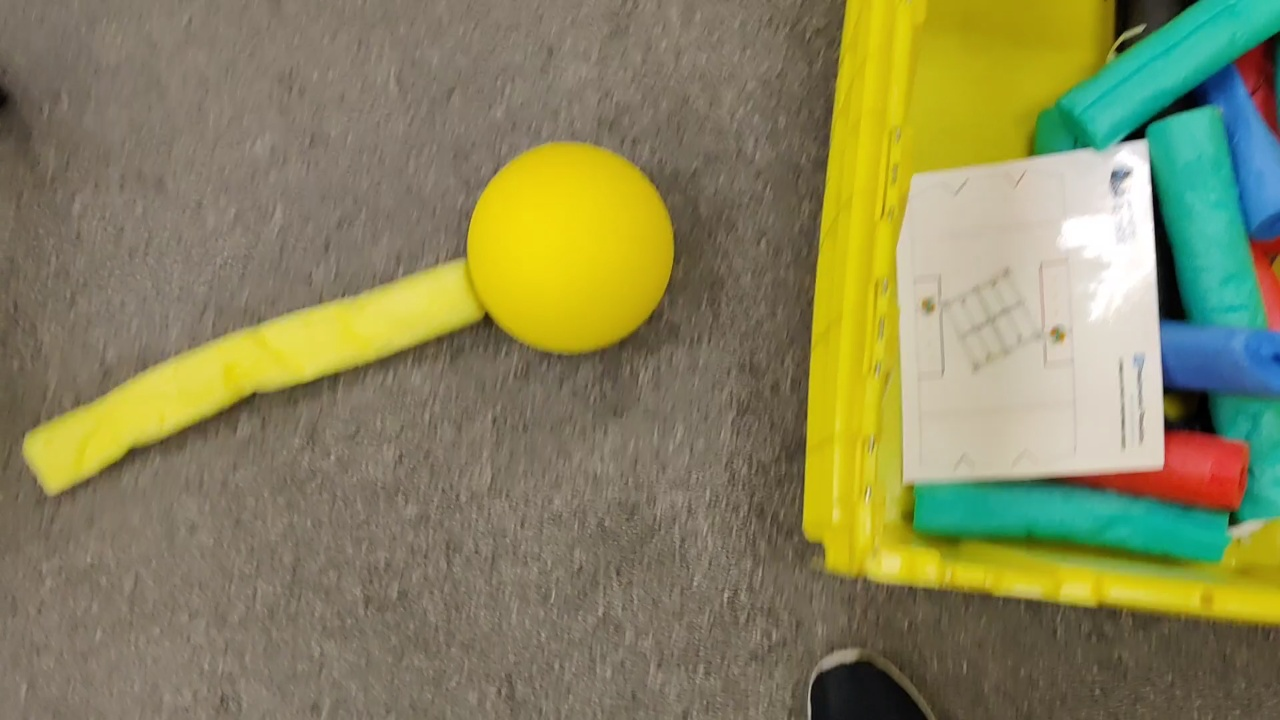Ball: (467, 140, 665, 351)
